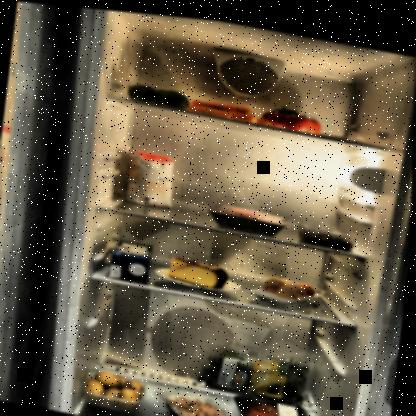beef: (230, 387, 332, 415)
blueberries: (298, 214, 361, 249)
carrot: (184, 91, 275, 121)
cheese: (170, 250, 231, 288)
eggs: (261, 267, 320, 301)
ground_beef: (204, 196, 291, 234)
lime: (127, 79, 192, 107)
milk: (110, 234, 157, 284)
potato: (84, 362, 152, 411)
shrimp: (162, 387, 238, 415)
spinach: (196, 338, 315, 404)
tomato: (260, 98, 325, 131)
